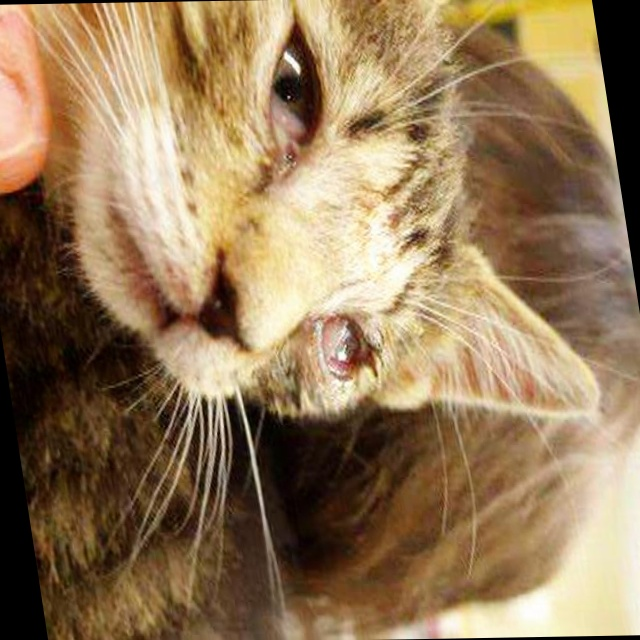eye_infection: (248, 23, 335, 162), (302, 307, 382, 391)
